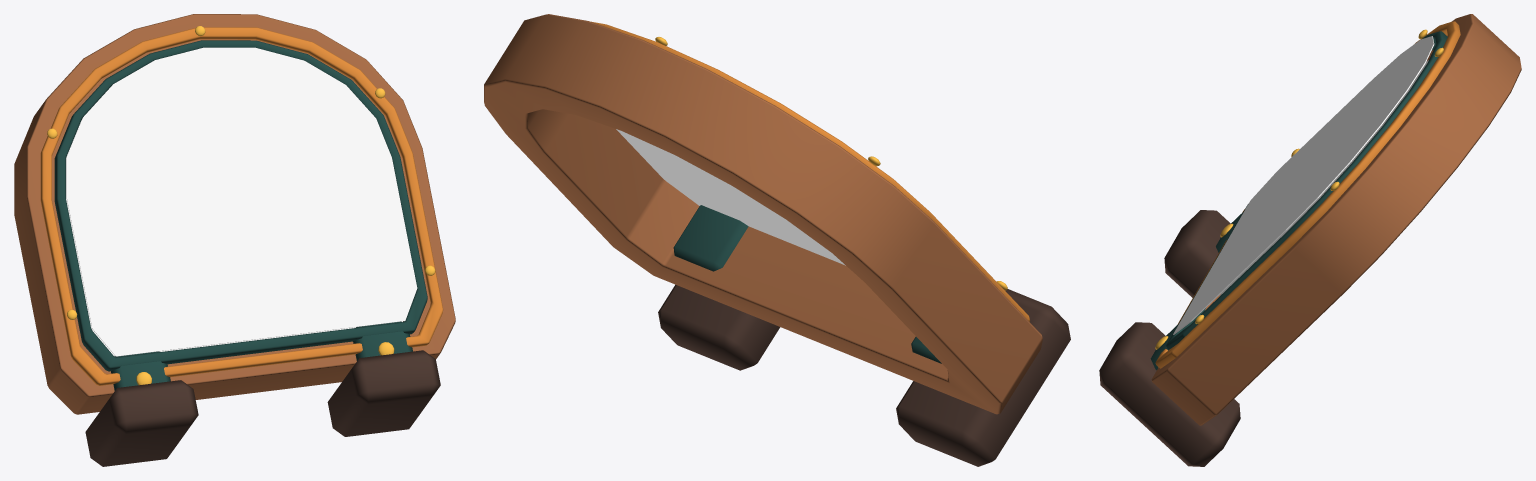
File: Portal_Proposed.fbx
3 views of the same model, side by side, from view 1: azimuth 30°, elevation 25°; view 2: azimuth 150°, elevation 25°; view 3: azimuth 270°, elevation 25° (orthographic). The views are drawn at different scales.
Visible parts, largest first — view 1: FallbackPane.001, Cedar frame, Brass trim, Leaf enamel trim, Broad cedar foot, Broad cedar foot.001, Enamel support.001, Enamel support, LivePane.001; view 2: Cedar frame, Broad cedar foot, Broad cedar foot.001, LivePane.001, Enamel support.001, Brass trim; view 3: Cedar frame, FallbackPane.001, Broad cedar foot.001, Brass trim, Broad cedar foot, Leaf enamel trim, LivePane.001.
Part boxes in pixels (x1,y1,x2,y2): FallbackPane.001: (66,47,417,356); Cedar frame: (14,14,455,414); Brass trim: (40,27,443,385); Leaf enamel trim: (54,40,427,371); Broad cedar foot: (85,380,198,466); Broad cedar foot.001: (327,350,440,436); Enamel support.001: (353,321,412,360); Enamel support: (111,351,170,390); LivePane.001: (66,120,402,356); Cedar frame: (484,14,1042,414); Broad cedar foot: (896,289,1070,466); Broad cedar foot.001: (658,284,780,370); LivePane.001: (616,129,845,265); Enamel support.001: (673,205,748,271); Brass trim: (591,21,1029,321); Cedar frame: (1151,14,1521,425); FallbackPane.001: (1173,36,1434,334); Broad cedar foot.001: (1099,322,1240,466); Brass trim: (1155,21,1460,368); Broad cedar foot: (1164,210,1230,297); Leaf enamel trim: (1166,31,1447,349); LivePane.001: (1219,60,1428,296).
Size of the model in its own units: 148 by 128 by 131.
7 materials, 1 textured.
